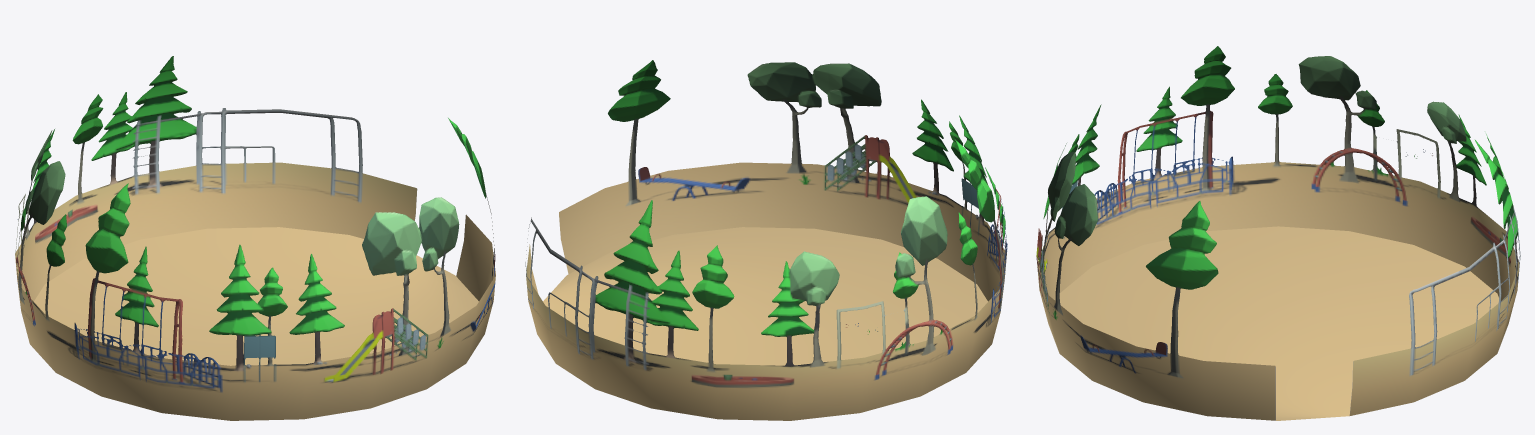
The model's file is Union2.fbx.
The picture shows the model from 3 angles, left to right: view 1: azimuth 30°, elevation 25°; view 2: azimuth 150°, elevation 25°; view 3: azimuth 270°, elevation 25°; orthographic projection.
Visible parts, largest first — view 1: pSphere1; view 2: pSphere1; view 3: pSphere1.
Part boxes in pixels (left/top/right/bottom): pSphere1: left=15, top=56, right=495, bottom=420; pSphere1: left=525, top=60, right=1007, bottom=420; pSphere1: left=1036, top=46, right=1520, bottom=420.
Bounding box in the file's own units: 142 × 92.72 × 142.
1 material, 1 textured.
